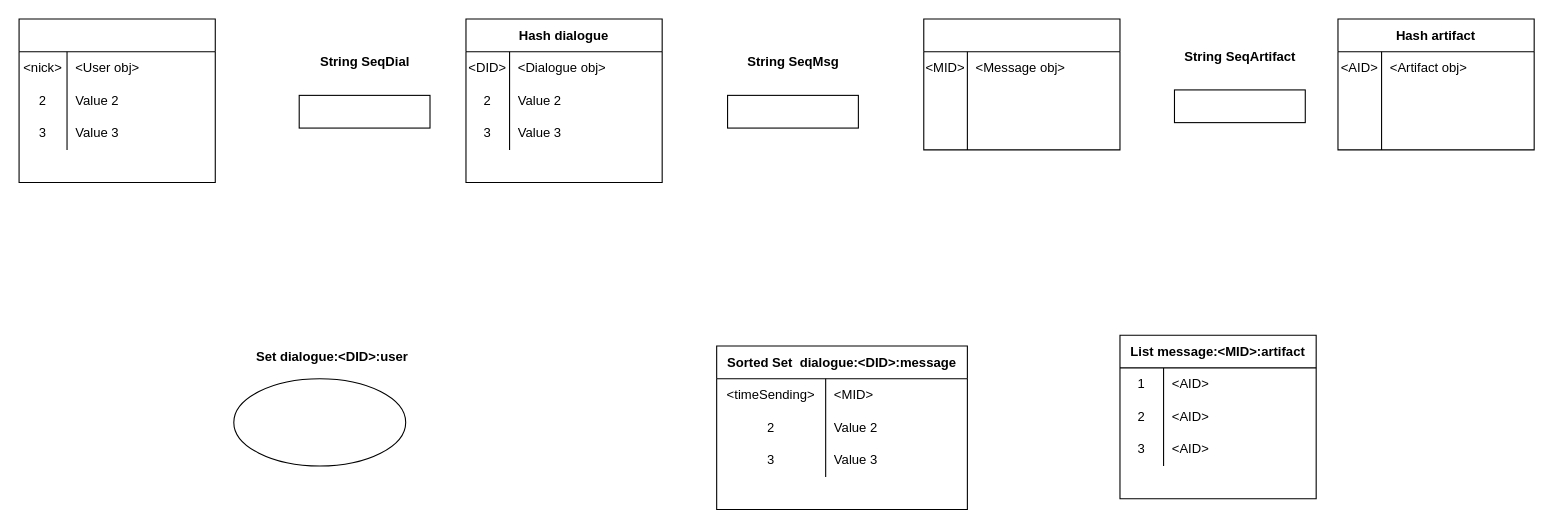
Image size: 1553x529. Some labels were removed from this diagram. The shapes that lost their labels are listed below. From the top down, each one's box as (x1, y1, x2, y2) in pixels, then its label:
(18, 18, 215, 183): Hash user
(923, 18, 1120, 150): Hash message
